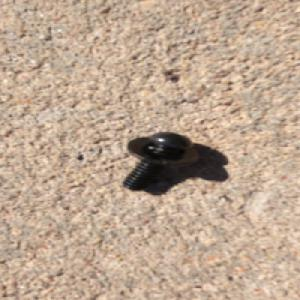BoltWasher: (121, 131, 203, 191)
